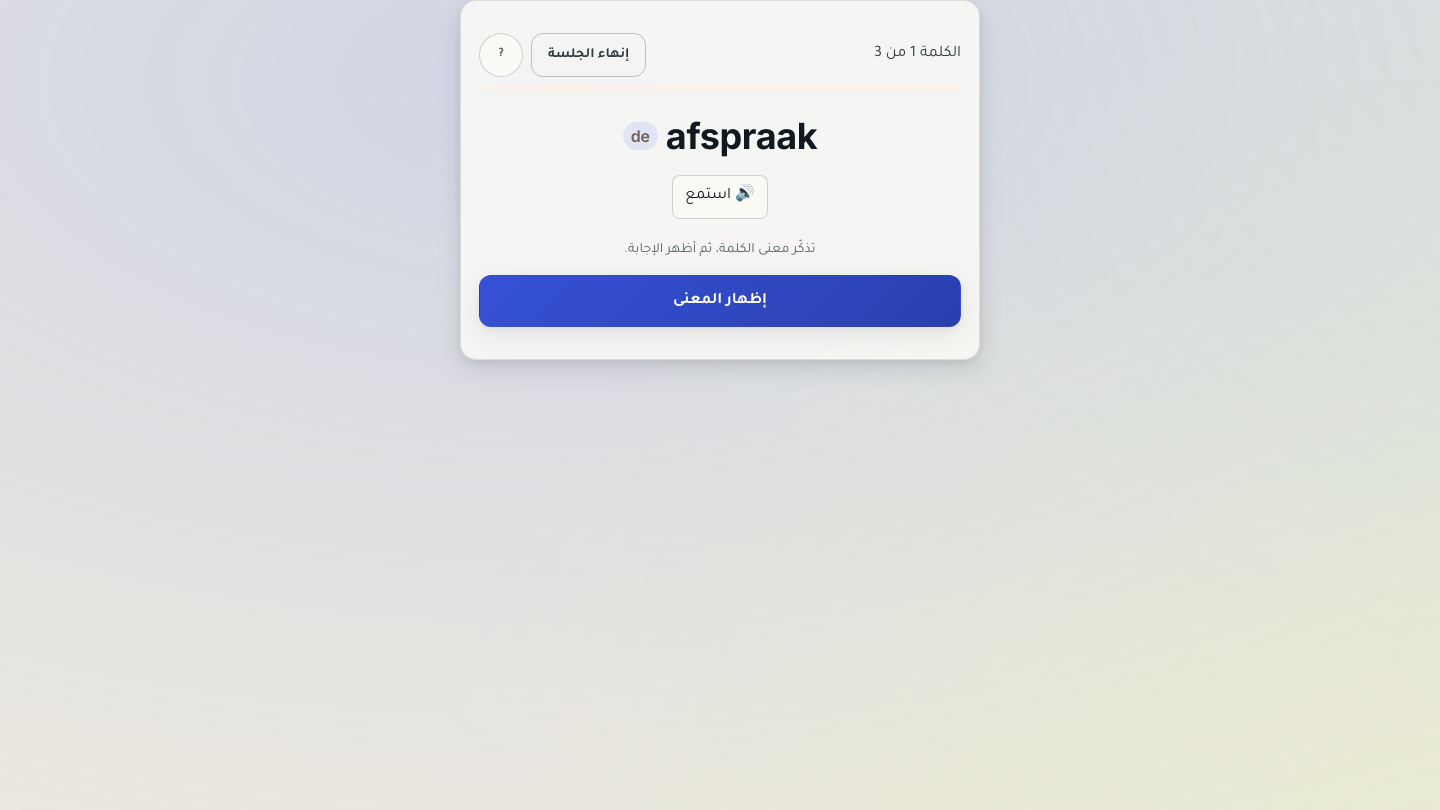
Test: FlashCard session integrity › keeps the answer available after a failed grade and allows retry
The image size is (1440, 810).
Click the button "إظهار المعنى" at (720, 301), box [479,275,961,327]
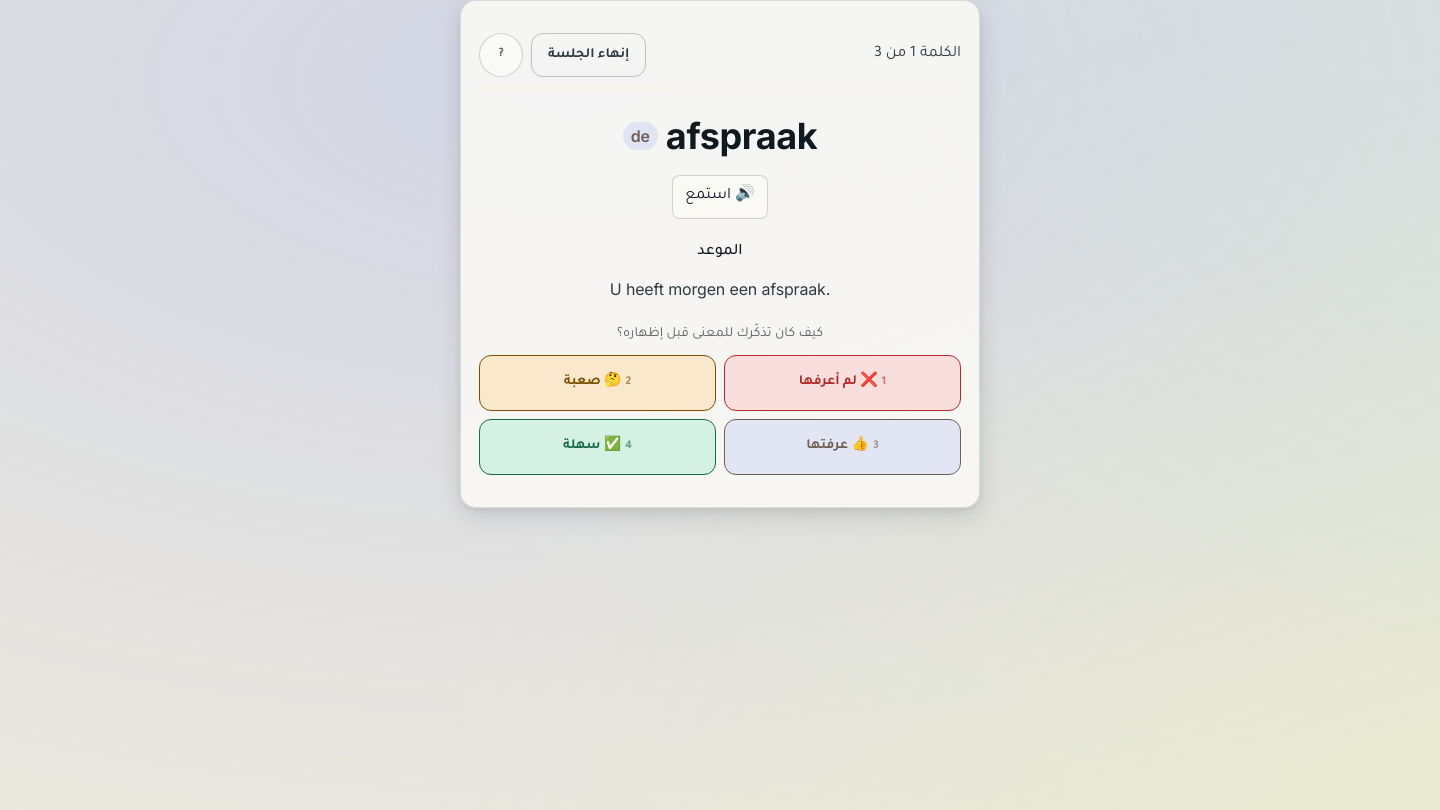
Click the button "3👍 عرفتها" at (842, 447), box [724,419,961,475]
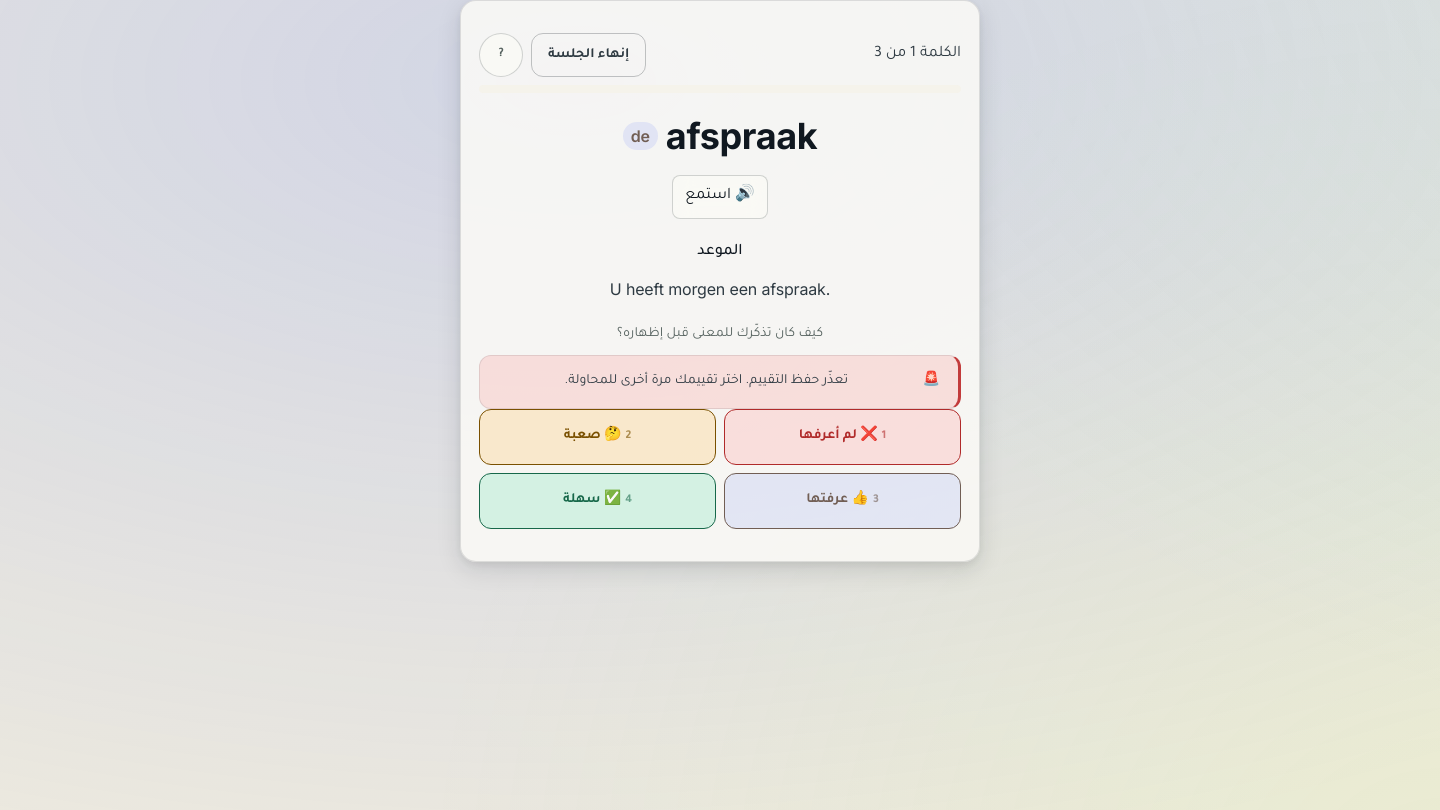
Check: the text "الموعد" is shown, box [697,244,743,260]
Check: the message shows "تعذّر حفظ التقييم", box [564,374,848,388]
Click the button "3👍 عرفتها" at (842, 501), box [724,473,961,529]
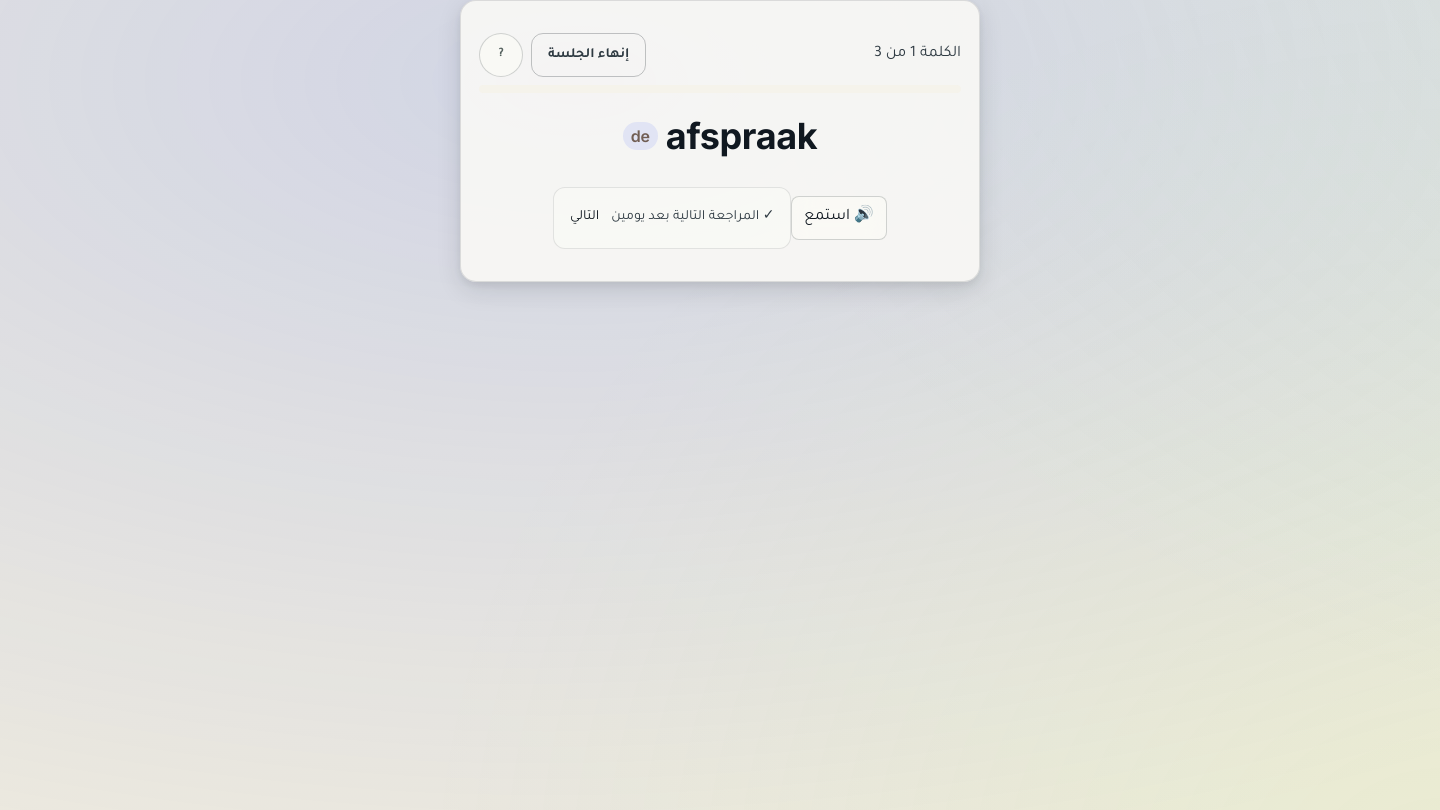
Check: the button with aria-label "التالي فوراً" is shown, box [570,196,599,240]
